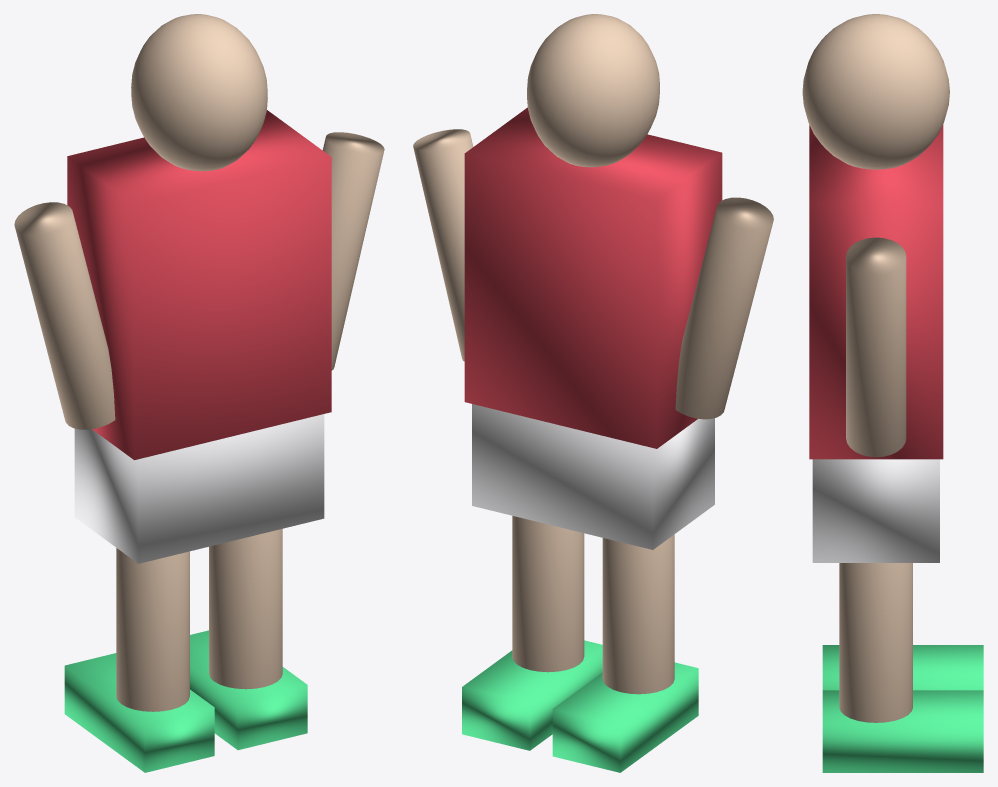
The model's file is delantero.glb.
3 views of the same model, side by side, from view 1: azimuth 30°, elevation 25°; view 2: azimuth 150°, elevation 25°; view 3: azimuth 270°, elevation 25° (orthographic). The views are drawn at different scales.
Parts seen in each view (by area): view 1: Torso, Pantalon, Cabeza, Brazo_-1, Pierna_-1, Pierna_1, Bota_-1, Brazo_1, Bota_1; view 2: Torso, Pantalon, Cabeza, Brazo_-1, Pierna_-1, Pierna_1, Bota_-1, Bota_1, Brazo_1; view 3: Torso, Cabeza, Pantalon, Brazo_1, Pierna_1, Bota_1, Bota_-1.
Part boxes in pixels (<box>): Torso: <box>67,110,331,460</box>; Pantalon: <box>74,414,324,563</box>; Cabeza: <box>131,14,267,171</box>; Brazo_-1: <box>14,202,115,429</box>; Pierna_-1: <box>116,548,189,711</box>; Pierna_1: <box>209,529,282,689</box>; Bota_-1: <box>64,653,214,772</box>; Brazo_1: <box>322,132,384,370</box>; Bota_1: <box>190,630,307,750</box>; Torso: <box>464,107,722,448</box>; Pantalon: <box>472,404,714,549</box>; Cabeza: <box>527,14,659,167</box>; Brazo_-1: <box>675,197,773,419</box>; Pierna_-1: <box>602,534,674,694</box>; Pierna_1: <box>512,516,584,672</box>; Bota_-1: <box>552,662,698,772</box>; Bota_1: <box>462,640,602,750</box>; Brazo_1: <box>413,129,473,361</box>; Torso: <box>809,124,943,459</box>; Cabeza: <box>802,14,949,169</box>; Pantalon: <box>812,459,939,562</box>; Brazo_1: <box>846,237,906,457</box>; Pierna_1: <box>839,563,912,722</box>; Bota_1: <box>822,690,983,772</box>; Bota_-1: <box>822,645,983,690</box>.
Size of the model in its own units: 1.25 by 2.35 by 0.54.
